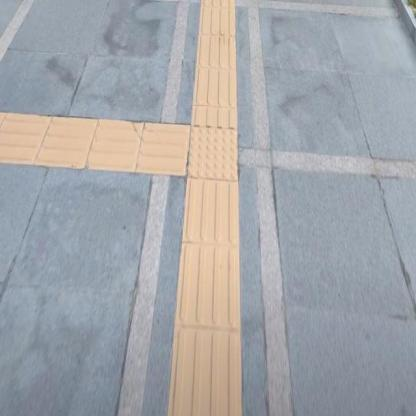podotacti: (169, 183, 244, 415), (159, 88, 262, 236), (0, 110, 186, 178), (193, 0, 239, 125)
